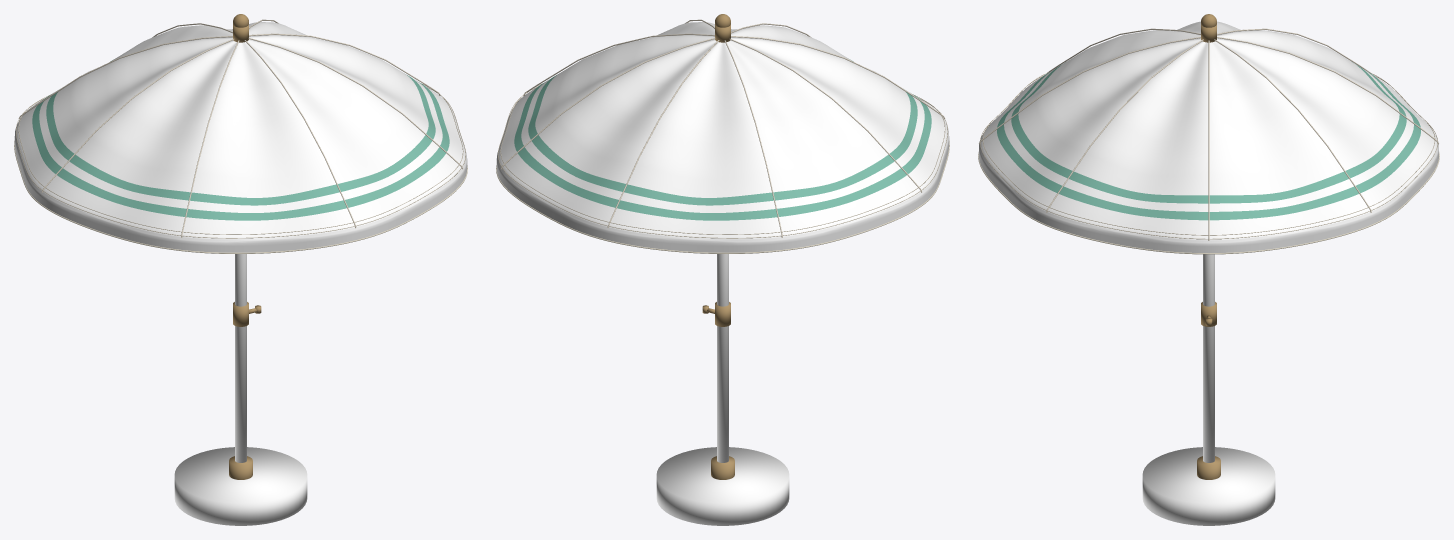
File: parasol-cream-v7.glb
The picture shows the model from 3 angles, left to right: view 1: azimuth 30°, elevation 25°; view 2: azimuth 150°, elevation 25°; view 3: azimuth 270°, elevation 25°; orthographic projection.
Visible parts, largest first — view 1: Canopy | ivory with double seafoam border, Base | stone foot, Pole | timber, Canvas | bound lower hem, Tailoring | edge stitching 0.965, Tailoring | edge stitching 0.910; view 2: Canopy | ivory with double seafoam border, Base | stone foot, Pole | timber, Canvas | bound lower hem, Tailoring | edge stitching 0.965, Tailoring | edge stitching 0.910; view 3: Canopy | ivory with double seafoam border, Base | stone foot, Pole | timber, Canvas | bound lower hem, Tailoring | edge stitching 0.910, Tailoring | edge stitching 0.965.
Part boxes in pixels (bbox=[...]): Canopy | ivory with double seafoam border: bbox=[14, 22, 467, 252]; Base | stone foot: bbox=[174, 447, 307, 525]; Pole | timber: bbox=[235, 254, 246, 462]; Canvas | bound lower hem: bbox=[14, 141, 467, 253]; Tailoring | edge stitching 0.965: bbox=[16, 86, 465, 238]; Tailoring | edge stitching 0.910: bbox=[18, 83, 463, 234]; Canopy | ivory with double seafoam border: bbox=[496, 22, 949, 252]; Base | stone foot: bbox=[656, 447, 789, 525]; Pole | timber: bbox=[717, 254, 728, 462]; Canvas | bound lower hem: bbox=[496, 141, 949, 253]; Tailoring | edge stitching 0.965: bbox=[498, 86, 947, 238]; Tailoring | edge stitching 0.910: bbox=[500, 83, 945, 234]; Canopy | ivory with double seafoam border: bbox=[979, 21, 1438, 252]; Base | stone foot: bbox=[1142, 447, 1275, 525]; Pole | timber: bbox=[1203, 254, 1214, 462]; Canvas | bound lower hem: bbox=[978, 152, 1439, 254]; Tailoring | edge stitching 0.910: bbox=[982, 72, 1435, 235]; Tailoring | edge stitching 0.965: bbox=[980, 75, 1437, 239].
Size of the model in its own units: 2.57 by 2.96 by 2.57.
